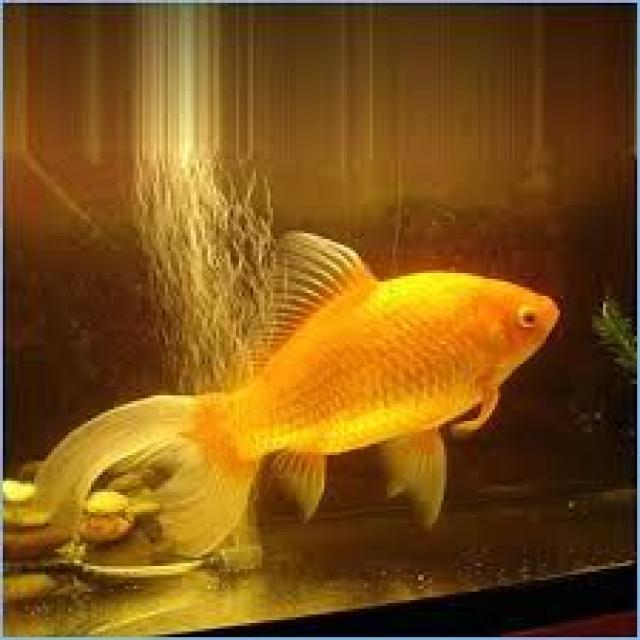Gold-Fish: (0, 220, 572, 586)
